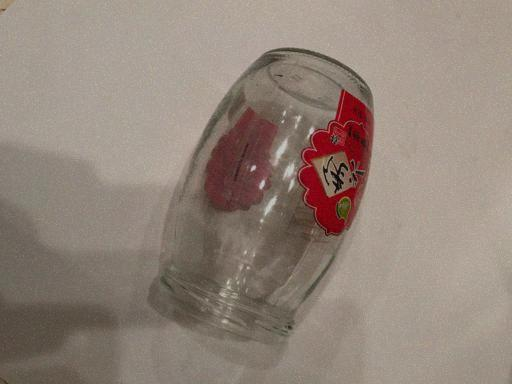glass: (161, 48, 375, 343)
